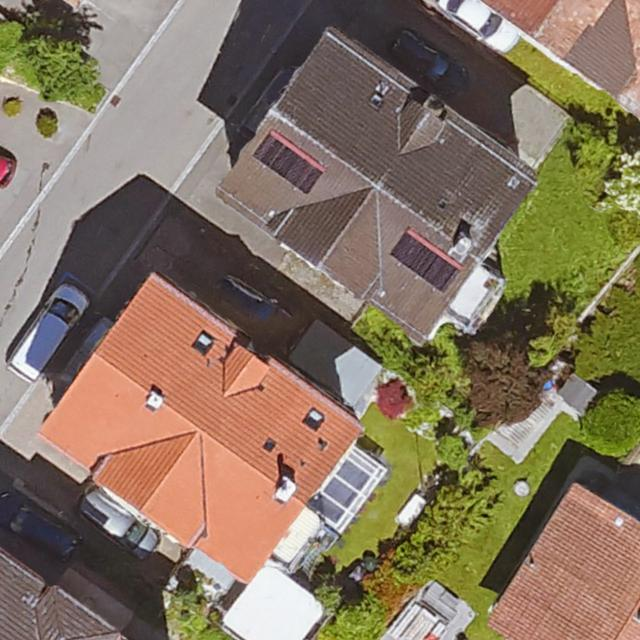tree: (461, 336, 544, 429), (20, 38, 100, 99), (425, 482, 495, 546), (582, 391, 640, 451), (570, 122, 619, 180), (328, 594, 383, 640), (0, 21, 26, 70), (435, 434, 471, 469), (313, 579, 345, 613)
